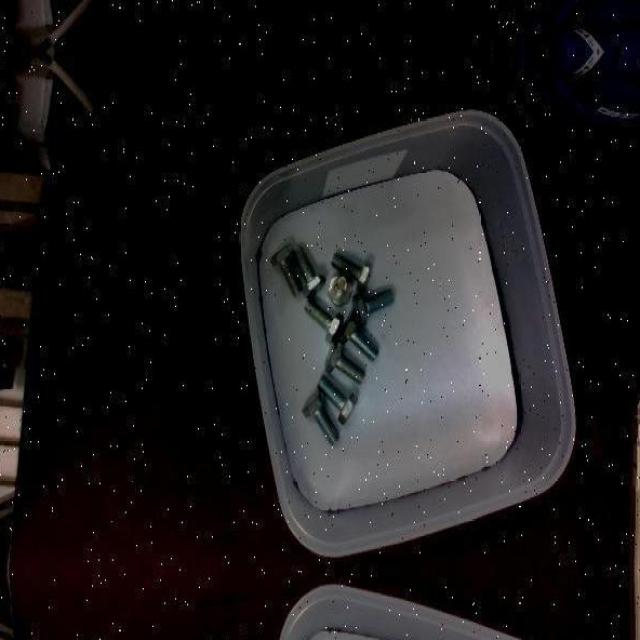screw: (302, 390, 339, 446), (338, 312, 378, 361), (316, 375, 356, 424), (324, 340, 366, 384), (304, 297, 344, 342), (269, 243, 302, 297), (293, 245, 326, 298), (331, 252, 372, 293), (352, 288, 394, 326), (328, 274, 352, 306)
